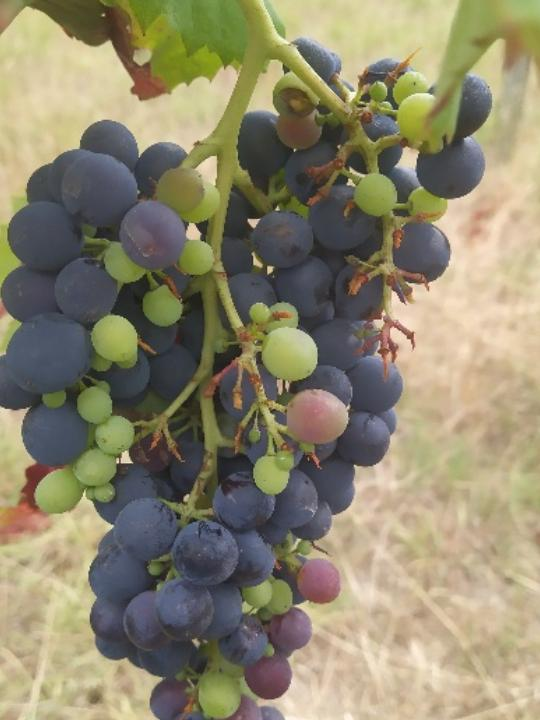grape: (0, 30, 499, 720)
